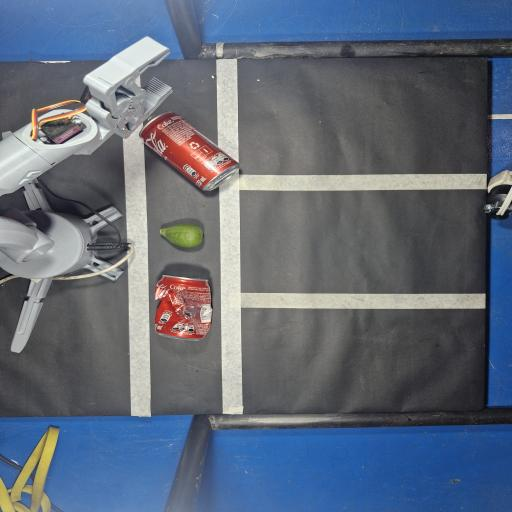higo: (160, 224, 203, 248)
lata: (141, 112, 238, 190)
lata_defectuoso: (155, 275, 212, 340)
